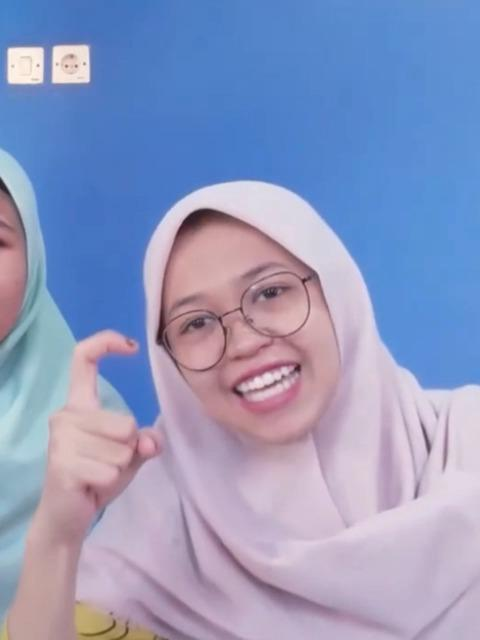X: (29, 328, 167, 530)
